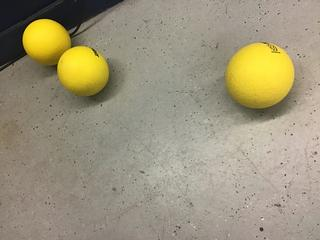power_cell: (223, 41, 292, 104), (54, 47, 107, 95), (19, 21, 70, 63)
